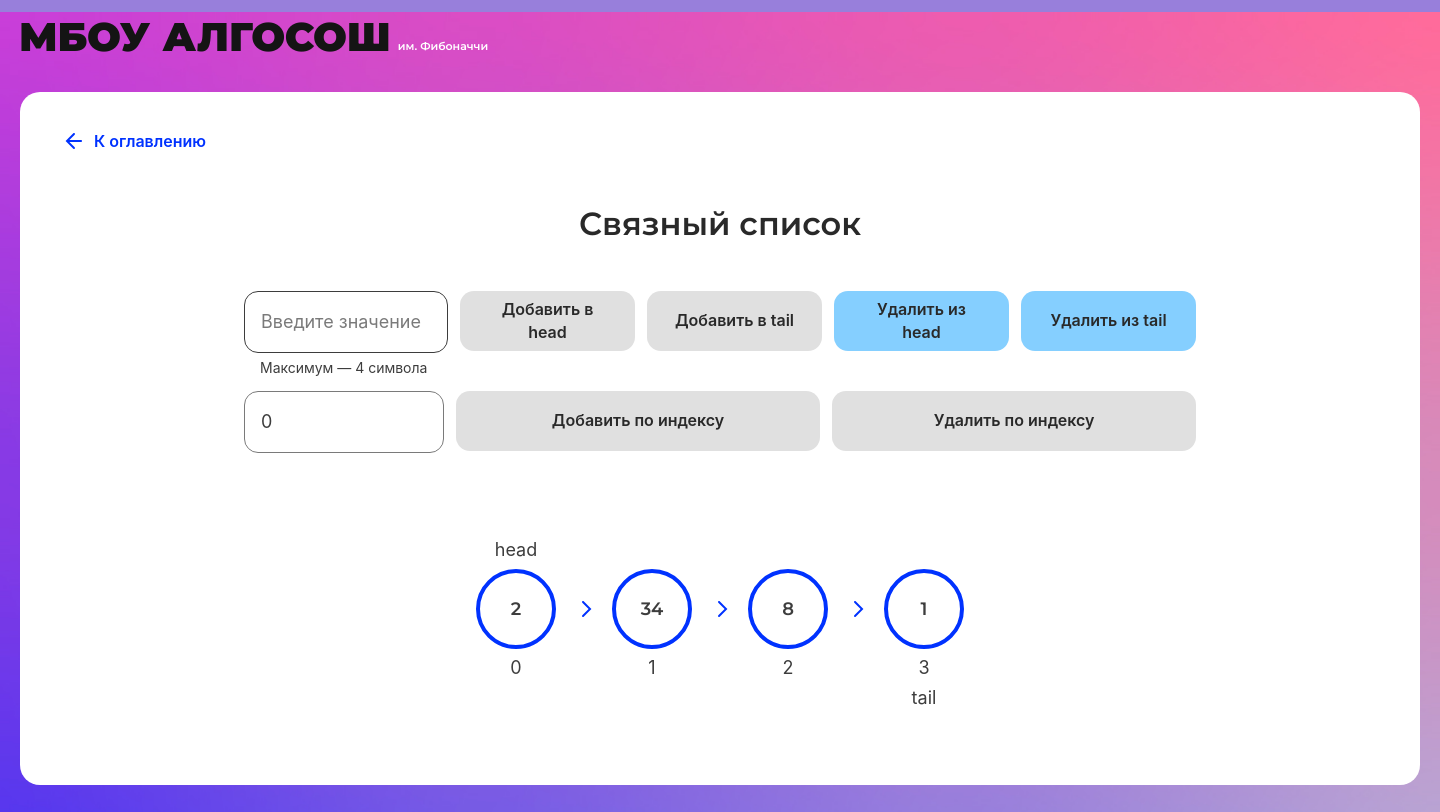
it: list page health check › Checking input-index is not empty and number is within the tolerance, an add button is available
Step 1. Type "3" into the number field with test id "input-index-list" → (344, 422), box [244, 391, 444, 453]
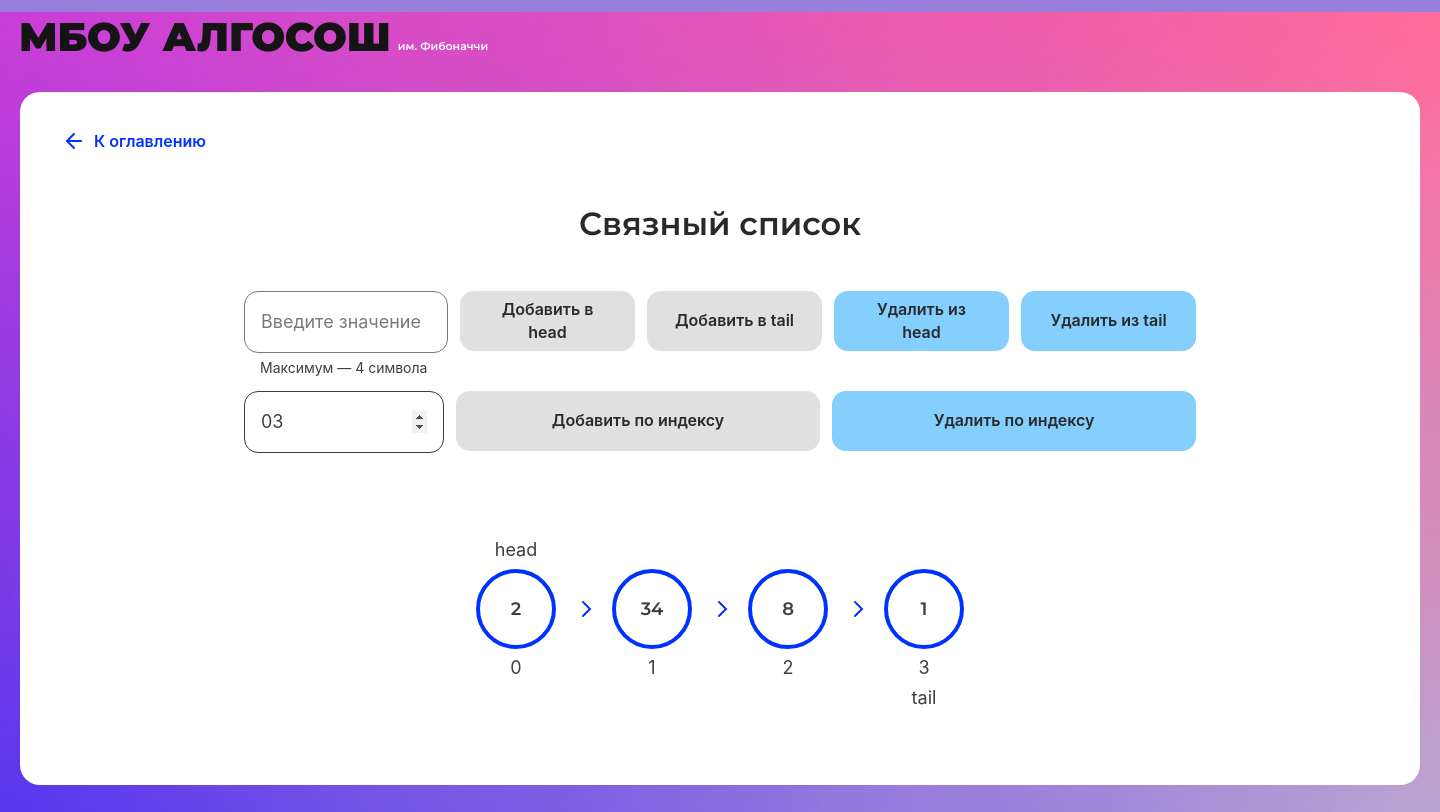
Result: the number field with test id "input-index-list" holds "03"
Step 2. Clear the number field with test id "input-index-list" → (344, 422), box [244, 391, 444, 453]
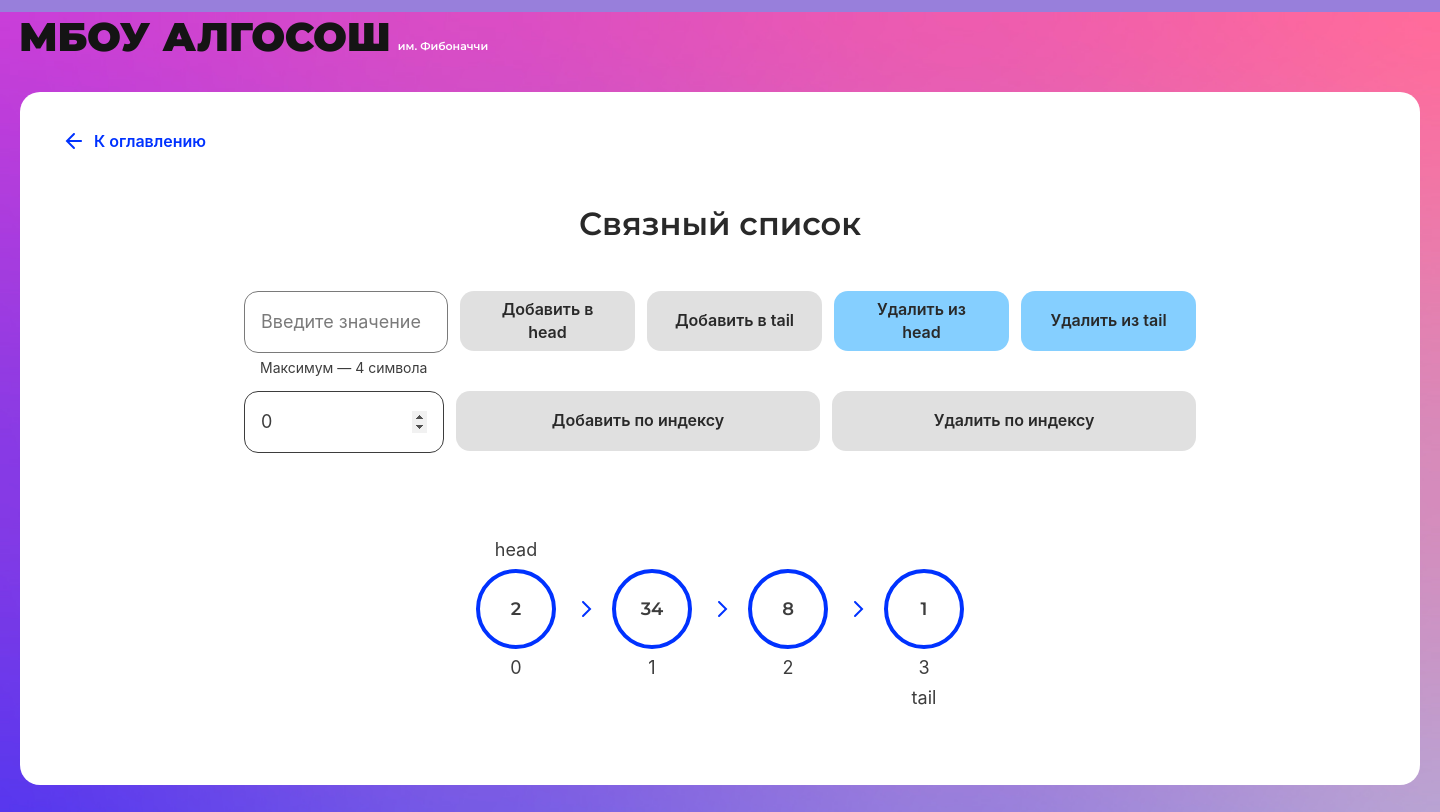
Result: the number field with test id "input-index-list" holds "0" at [244, 391, 444, 453]
